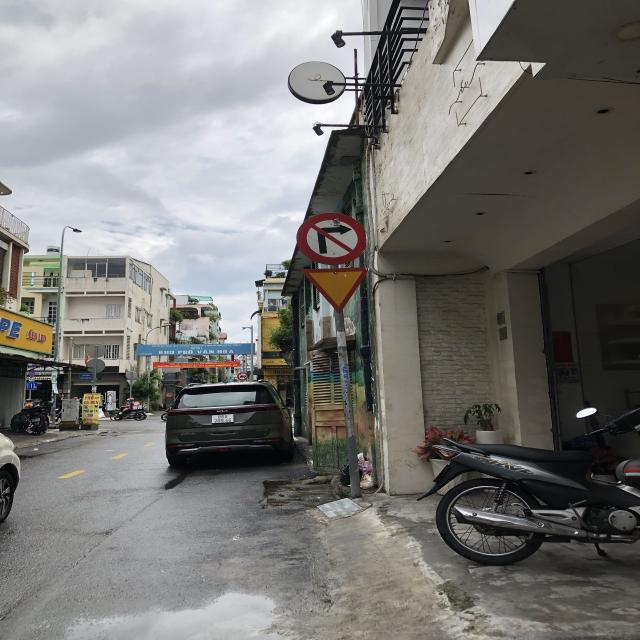Bien bao cam re phai: (296, 207, 375, 264)
Bien bao giao nhau voi duong uu tien: (297, 262, 375, 308)
